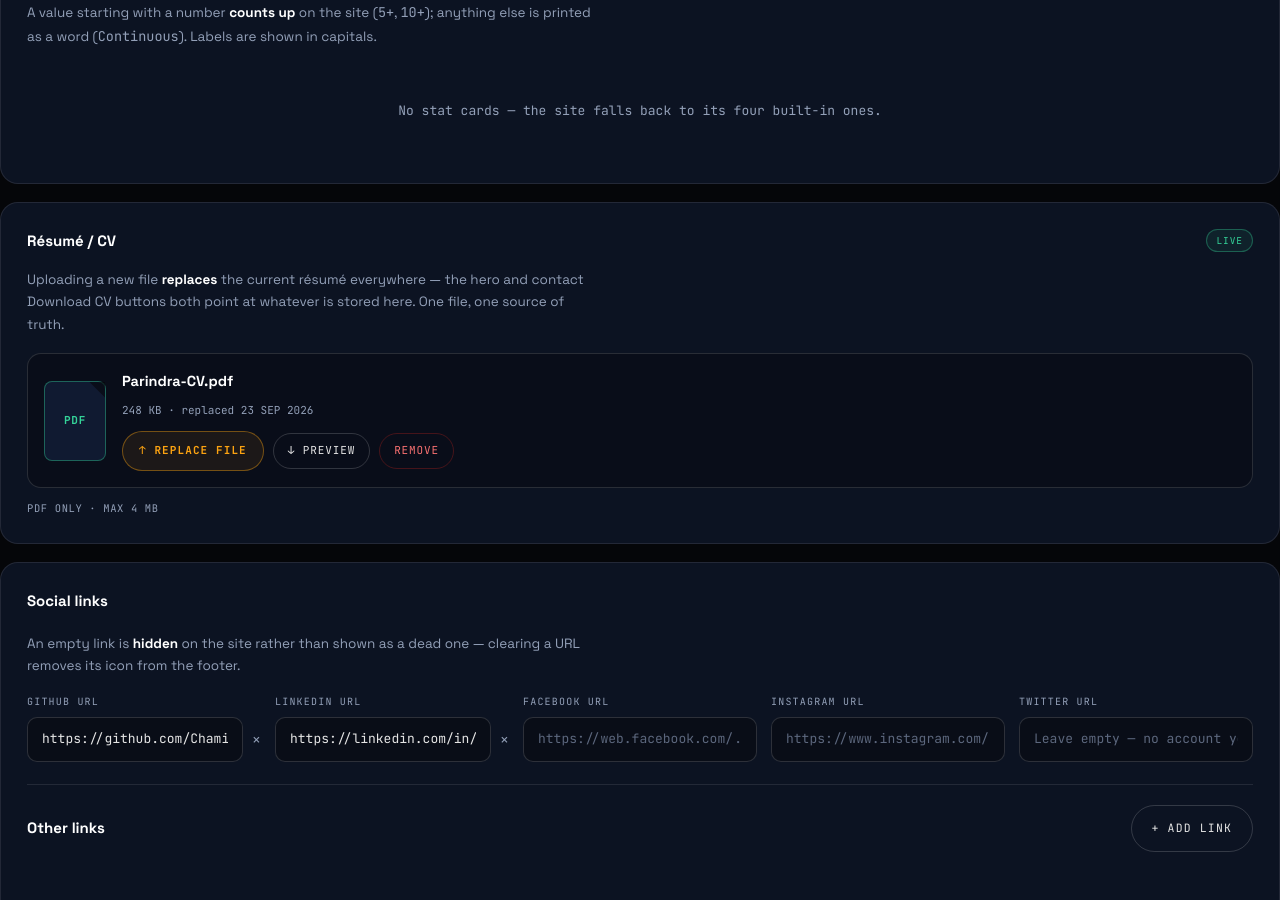
Test case: the résumé stages until SAVE › stages a removal instead of deleting straight away
(page scrolled)
Click the button "REMOVE": (417, 451) [379,433,454,469]
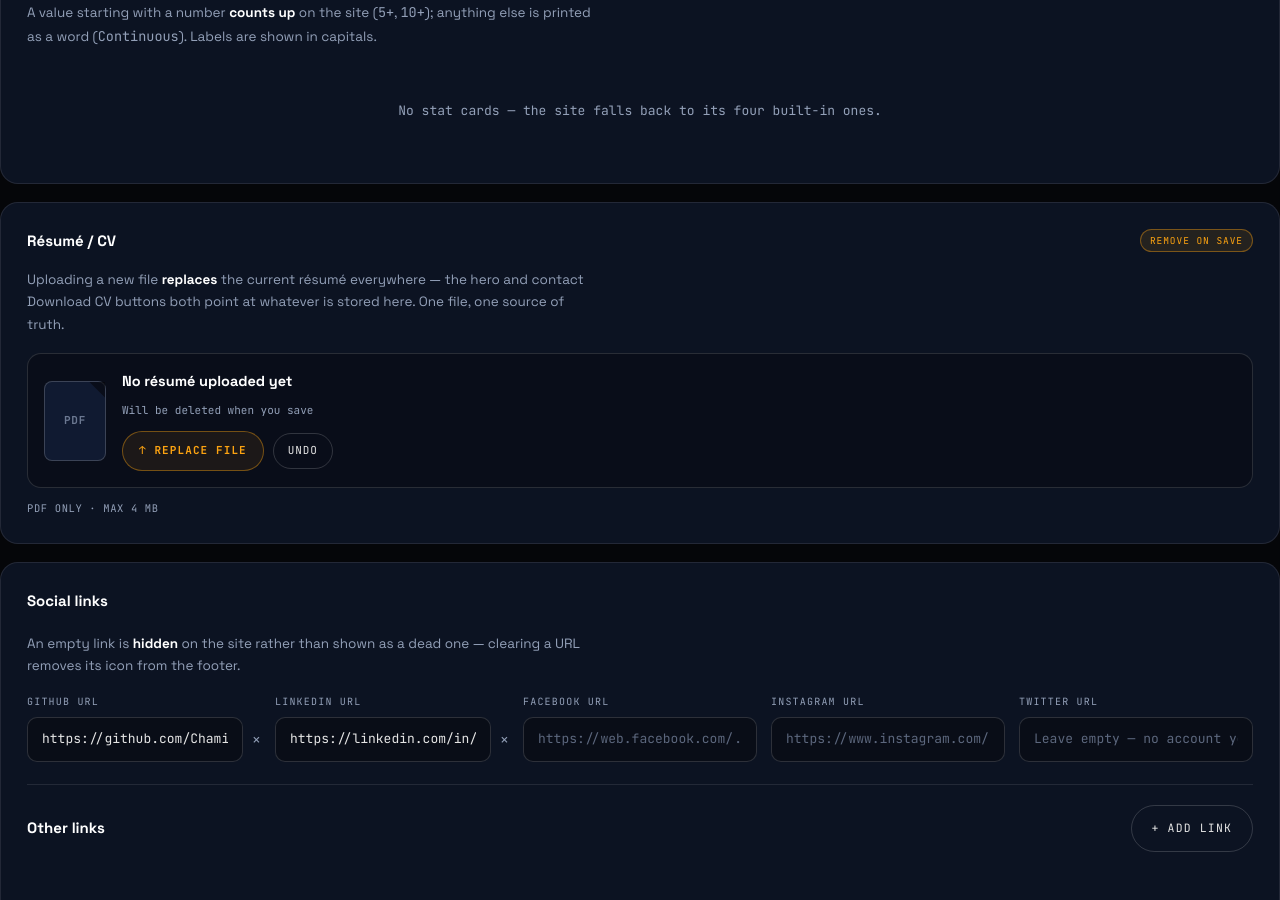
Expected: the text "REMOVE ON SAVE" is shown, [1140,229,1253,252]
